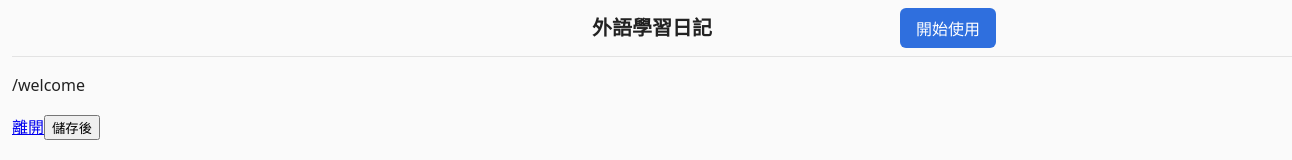
Test: TopBar on the welcome page › 開始使用 records welcomeSeen and goes home
Click the button "開始使用".
click(948, 28)  # box [900,8,996,48]
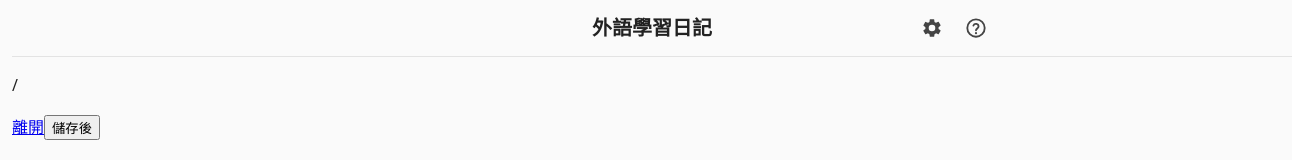
Expected: the button "開始使用" is gone
